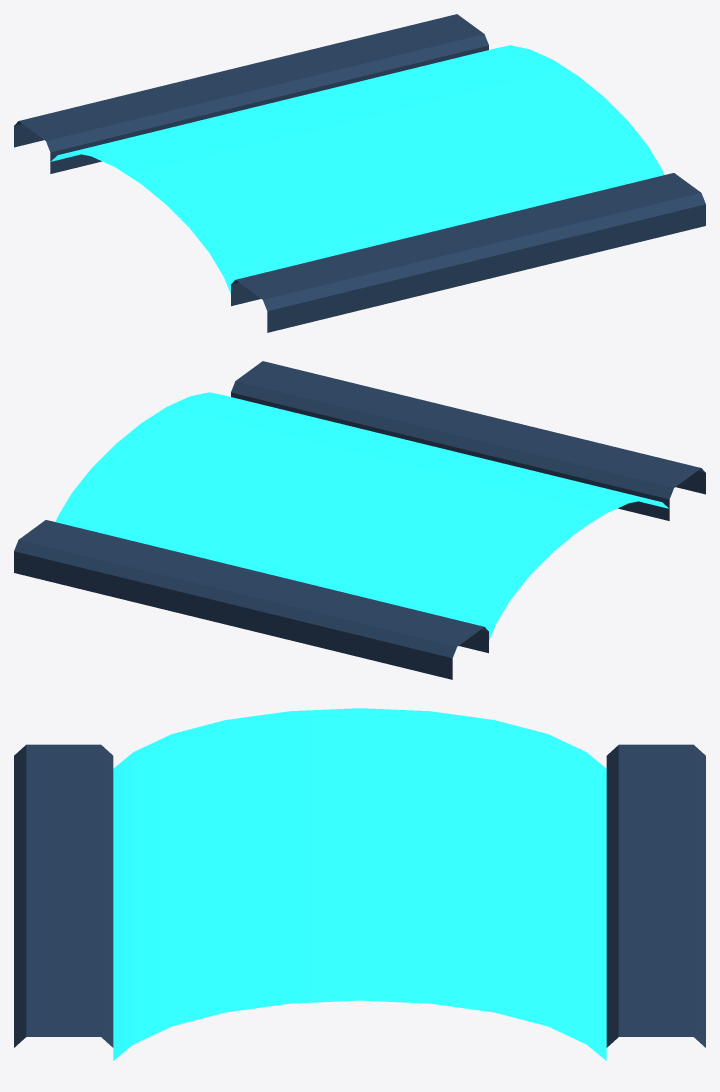
The model's file is Light_Trim_01_Straight_10.glb.
The picture shows the model from 3 angles, top to bottom: view 1: azimuth 30°, elevation 25°; view 2: azimuth 150°, elevation 25°; view 3: azimuth 270°, elevation 25°; orthographic projection. The views are drawn at different scales.
Visible parts, largest first — view 1: Light_Trim_01_Straight_10.001; view 2: Light_Trim_01_Straight_10.001; view 3: Light_Trim_01_Straight_10.001.
Boxes of the visible parts, x1,y1,x2,y2 form: Light_Trim_01_Straight_10.001: (14,14,705,332); Light_Trim_01_Straight_10.001: (14,361,705,679); Light_Trim_01_Straight_10.001: (14,708,705,1060).
Size of the model in its own units: 0.1 by 0.0123 by 0.1.
